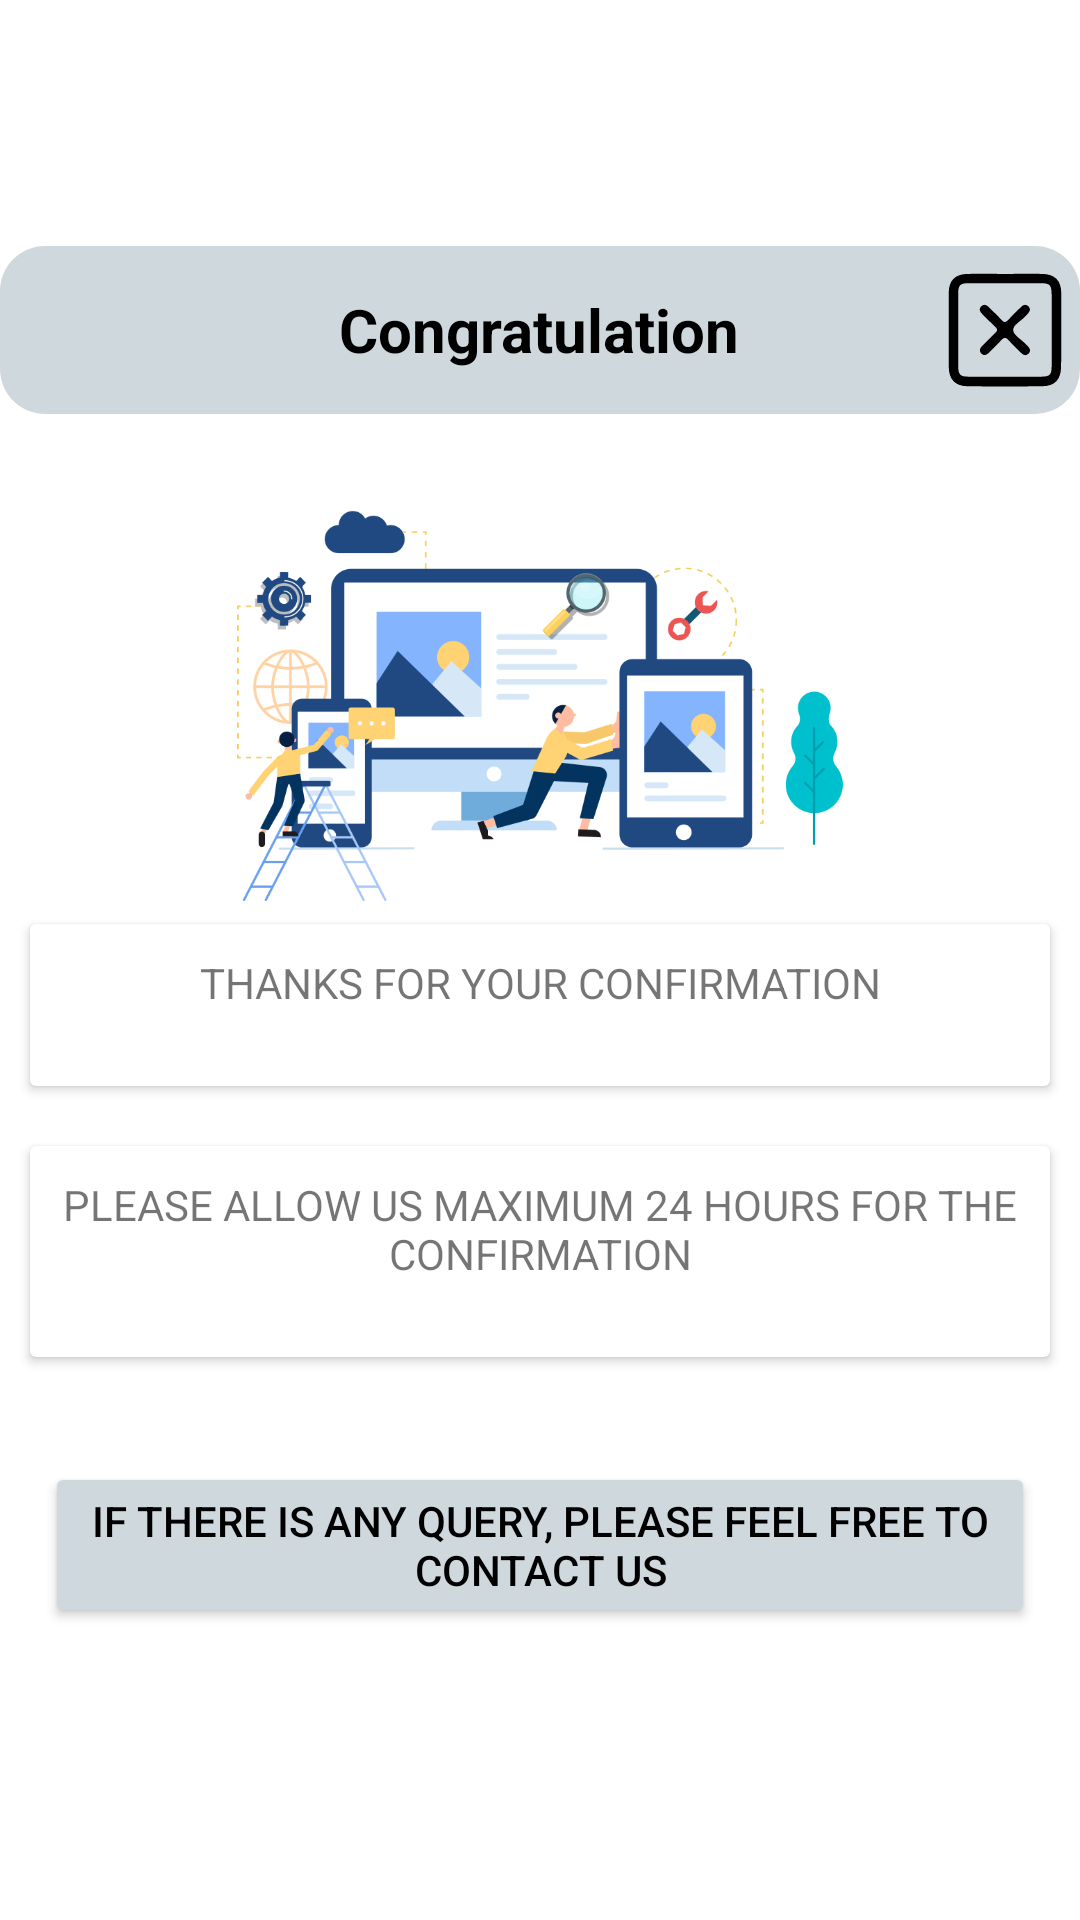

Locate icon controls on the screen. Image size 1080w x 1920h, boxes as [x1,y1,x2,y2].
cancel: [948,273,1062,387]
